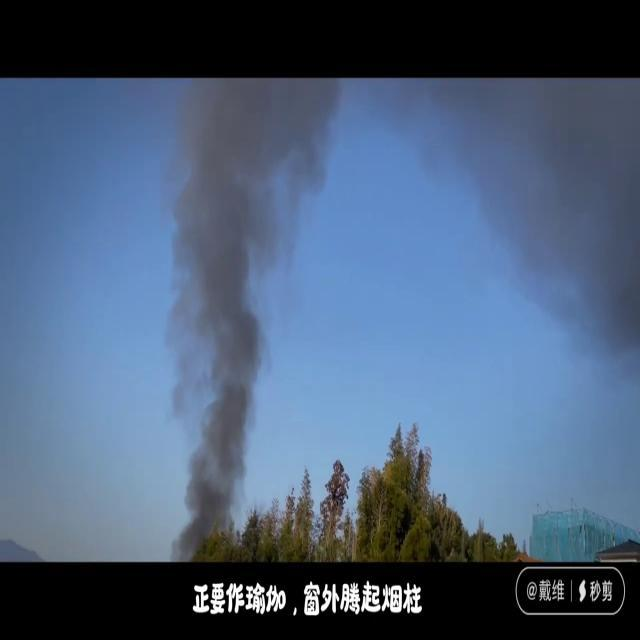Smoke: (158, 80, 332, 538)
